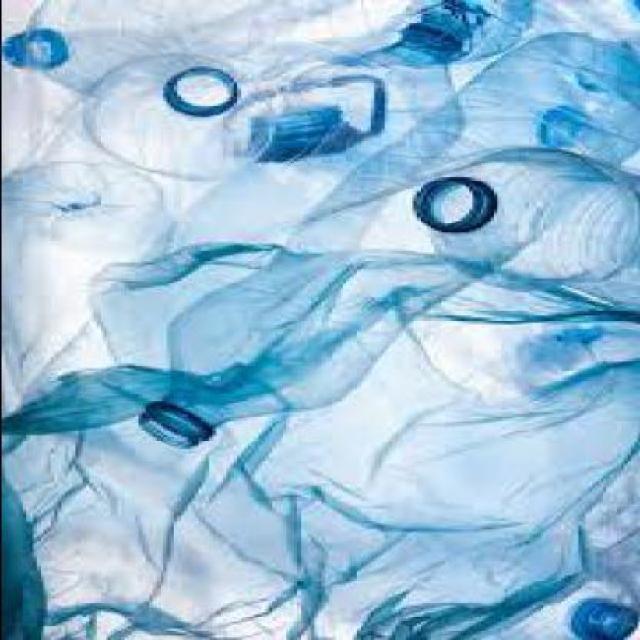PLASTIC: (3, 0, 638, 638), (143, 29, 639, 446), (94, 5, 486, 377), (224, 443, 638, 639), (4, 410, 225, 638), (3, 0, 538, 92), (4, 159, 179, 412), (418, 142, 638, 318), (74, 54, 274, 178), (261, 74, 390, 163), (471, 591, 638, 638), (3, 477, 49, 637), (531, 0, 638, 43), (622, 0, 638, 23)
